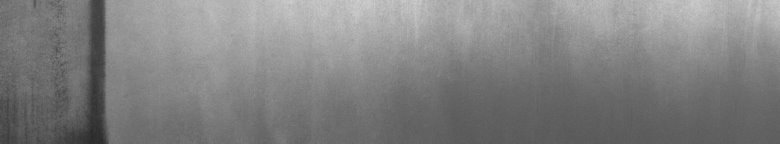hd: (56, 4, 112, 136)
